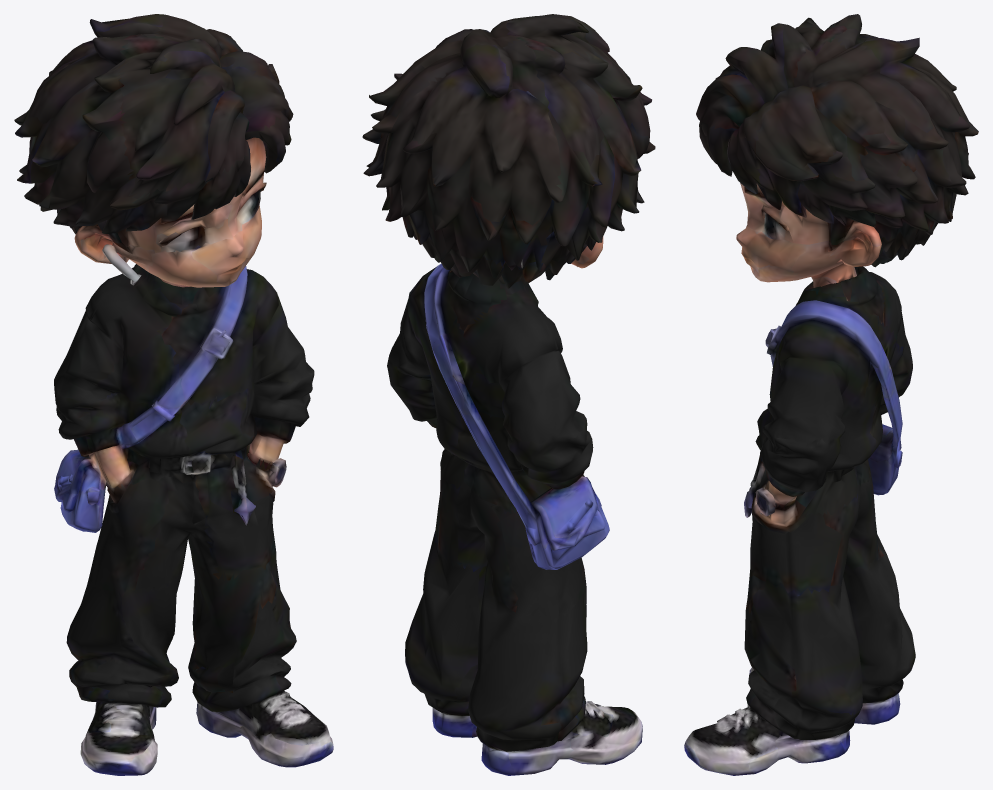
File: chibi.glb
The picture shows the model from 3 angles, left to right: view 1: azimuth 30°, elevation 25°; view 2: azimuth 150°, elevation 25°; view 3: azimuth 270°, elevation 25°; orthographic projection. The views are drawn at different scales.
Parts seen in each view (by area): view 1: tripo_node_8083ac4d-b1f3-41e7-9114-44d6882cc808; view 2: tripo_node_8083ac4d-b1f3-41e7-9114-44d6882cc808; view 3: tripo_node_8083ac4d-b1f3-41e7-9114-44d6882cc808.
Boxes of the visible parts, bbox=[...] form: tripo_node_8083ac4d-b1f3-41e7-9114-44d6882cc808: bbox=[14, 14, 333, 775]; tripo_node_8083ac4d-b1f3-41e7-9114-44d6882cc808: bbox=[362, 14, 655, 775]; tripo_node_8083ac4d-b1f3-41e7-9114-44d6882cc808: bbox=[684, 14, 978, 775].
Size of the model in its own units: 5.32 by 13.91 by 5.37.
1 material, 1 textured.
